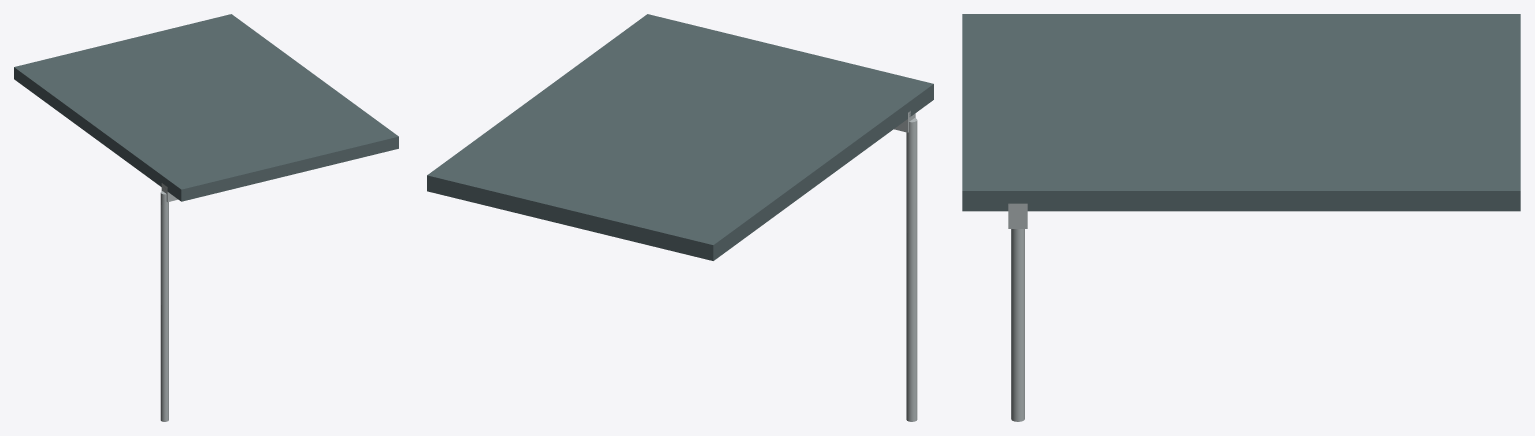
File: terminal_canopy_3m.glb
The picture shows the model from 3 angles, left to right: view 1: azimuth 30°, elevation 25°; view 2: azimuth 150°, elevation 25°; view 3: azimuth 270°, elevation 25°; orthographic projection. The views are drawn at different scales.
Parts seen in each view (by area): view 1: terminal_canopy_3m__Roof paint, terminal_canopy_3m__Fixed_Stainless; view 2: terminal_canopy_3m__Roof paint, terminal_canopy_3m__Fixed_Stainless; view 3: terminal_canopy_3m__Roof paint, terminal_canopy_3m__Fixed_Stainless.
Boxes of the visible parts, bbox=[...] form: terminal_canopy_3m__Roof paint: bbox=[14, 14, 398, 201]; terminal_canopy_3m__Fixed_Stainless: bbox=[160, 183, 177, 421]; terminal_canopy_3m__Roof paint: bbox=[427, 14, 933, 260]; terminal_canopy_3m__Fixed_Stainless: bbox=[894, 111, 917, 421]; terminal_canopy_3m__Roof paint: bbox=[962, 14, 1520, 211]; terminal_canopy_3m__Fixed_Stainless: bbox=[1008, 203, 1027, 421].
Bounding box in the file's own units: 3.05 × 3.2 × 4.
